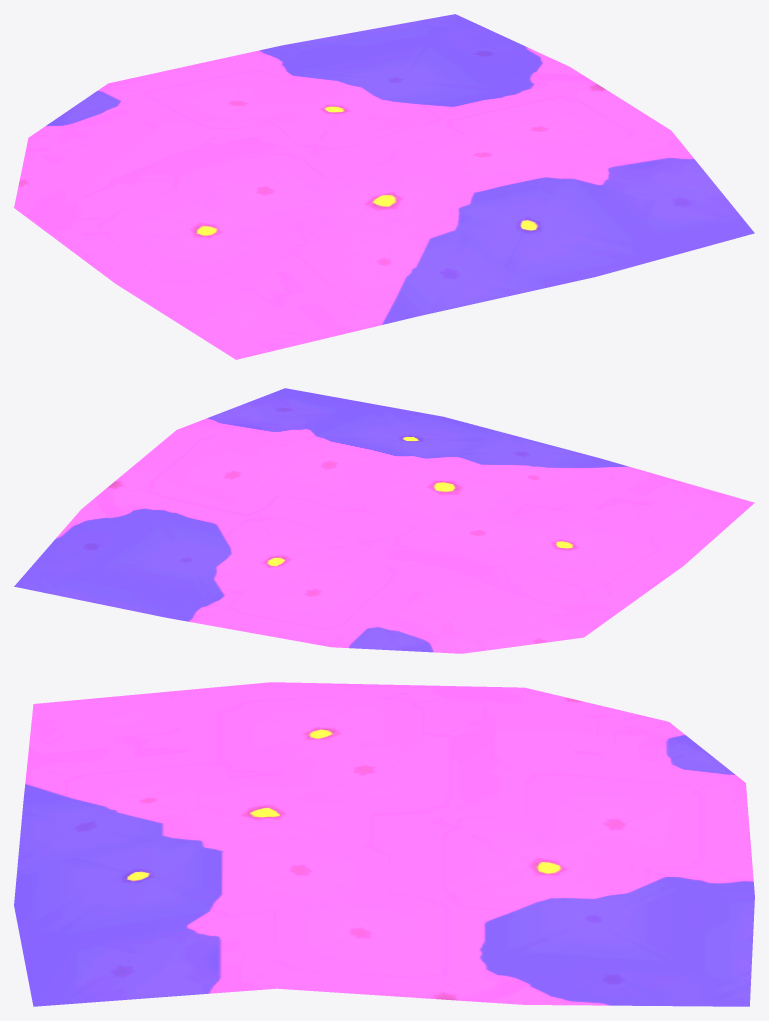
File: SM_Env_Flowers_Flat_02.glb
3 renders of one model, top to bottom at view 1: azimuth 30°, elevation 25°; view 2: azimuth 150°, elevation 25°; view 3: azimuth 270°, elevation 25°, orthographic. The views are drawn at different scales.
Visible parts, largest first — view 1: SM_Env_Flowers_Flat_02; view 2: SM_Env_Flowers_Flat_02; view 3: SM_Env_Flowers_Flat_02.
Boxes of the visible parts, left/top/right/bottom form: SM_Env_Flowers_Flat_02: left=14, top=14, right=754, bottom=359; SM_Env_Flowers_Flat_02: left=14, top=388, right=754, bottom=653; SM_Env_Flowers_Flat_02: left=14, top=682, right=754, bottom=1006.
Bounding box in the file's own units: 2.16 × 0.1452 × 2.07.
Materials: 1 (1 with a texture image).
